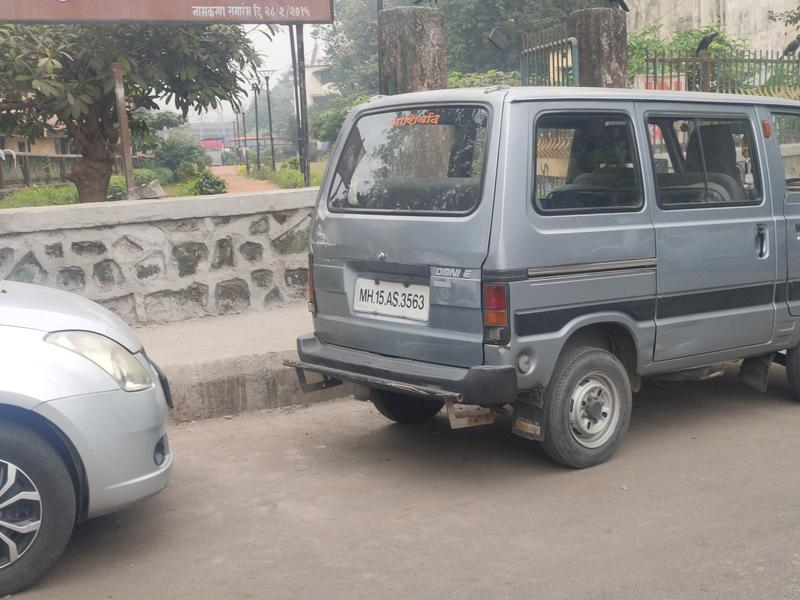license_plate: (349, 270, 438, 329)
